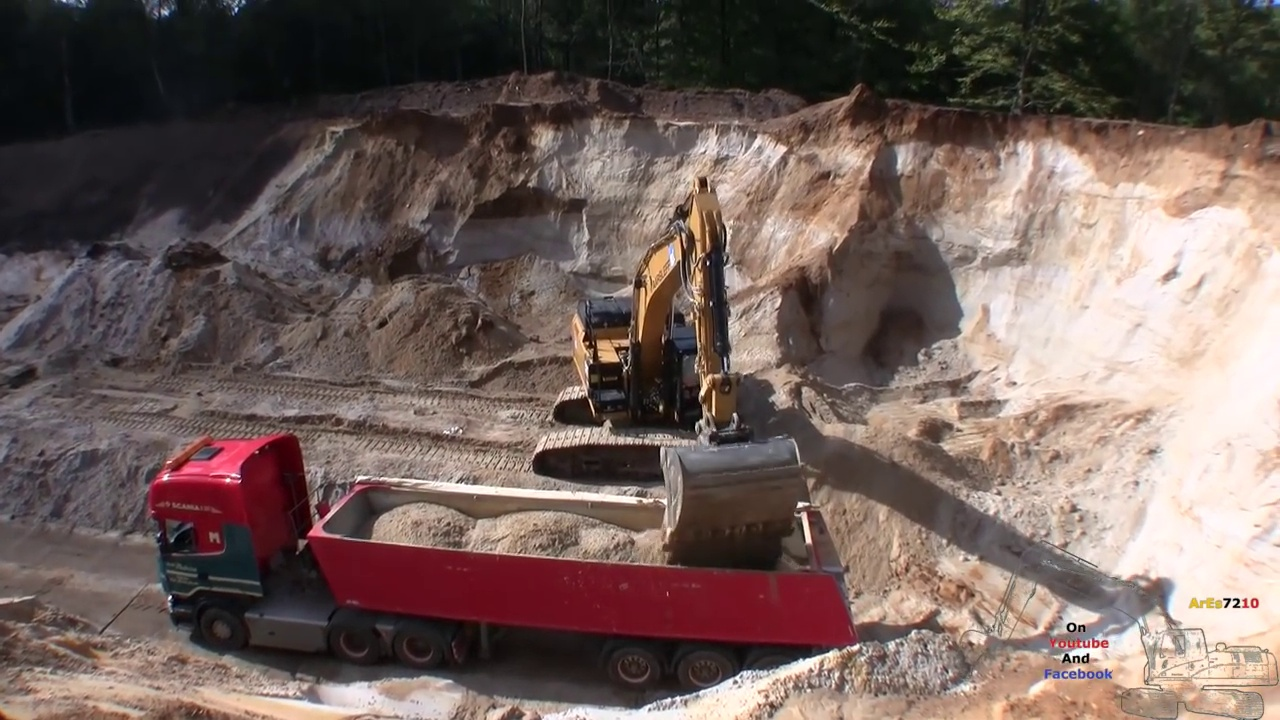excavator: (533, 170, 812, 569)
truck: (145, 432, 856, 690)
